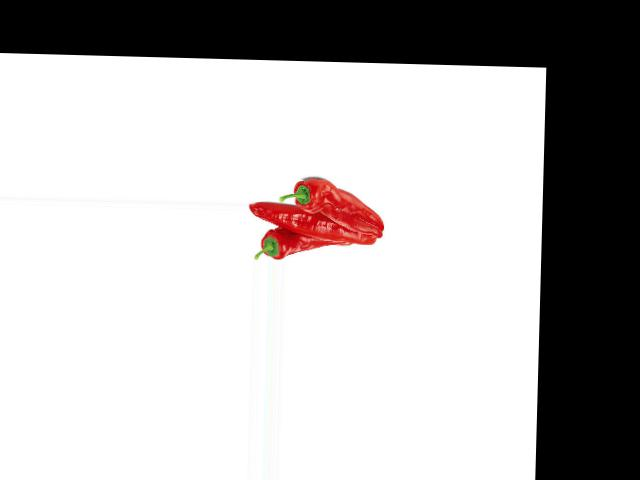bell_pepper: (276, 173, 386, 225)
